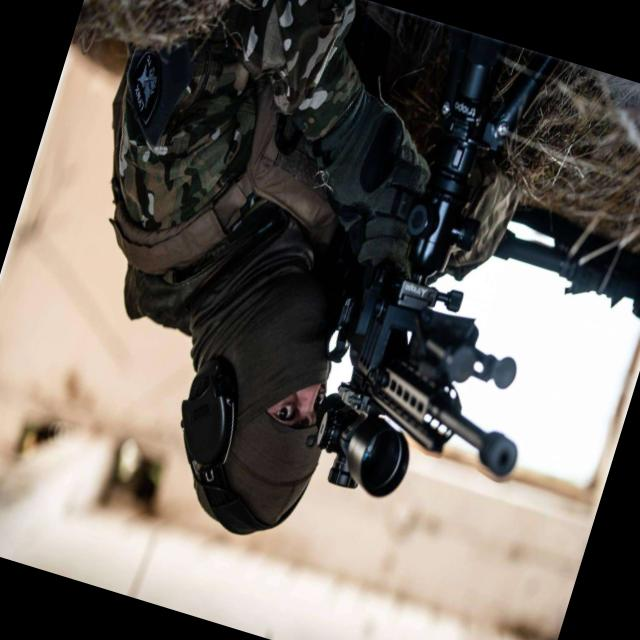Weapon: (279, 16, 635, 546)
